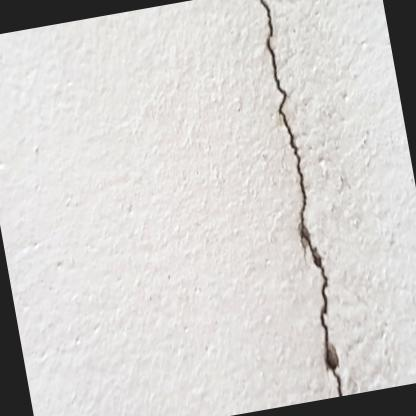crack: (258, 0, 345, 397)
